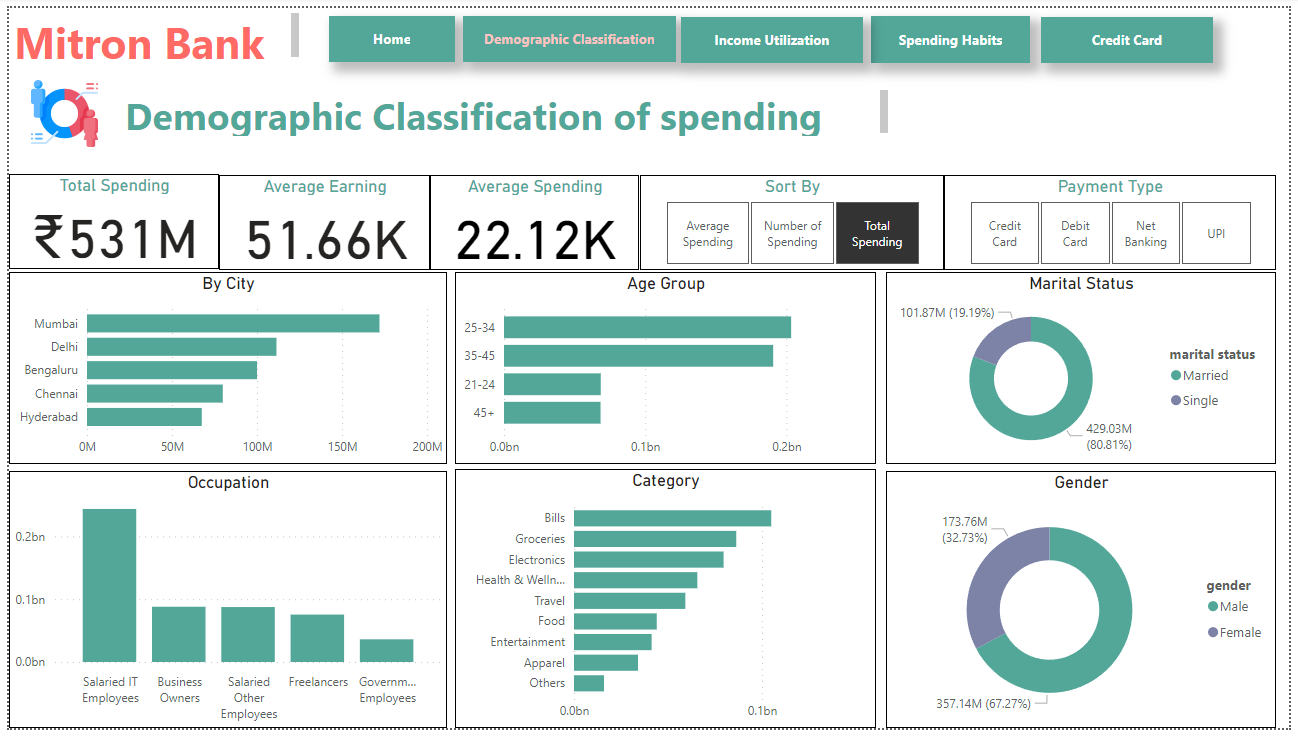

The dashboard page shown, as its layout file describes it:
{"tool":"powerbi","page":{"name":"Demographic Classification","canvas":[1280,720],"ordinal":1},"visuals":[{"type":"actionButton","title":"Home","box":[320,8,126,46],"z":0,"group":"g1"},{"type":"clusteredBarChart","title":"Age Group","fields":{"Category":["dim_customers.age_group"],"Y":["fact_spends.ShowBySelection"]},"box":[445.7,263.8,421.7,191.9],"z":0},{"type":"actionButton","title":"Home","box":[454,8,213,46],"z":1000,"group":"g1"},{"type":"textbox","box":[110.5,77.2,773.5,55.5],"z":1000},{"type":"actionButton","title":"Home","box":[862,8,159,47],"z":2000,"group":"g1"},{"type":"donutChart","title":"Gender","fields":{"Y":["fact_spends.ShowBySelection"],"Category":["dim_customers.gender"]},"box":[877.3,462.6,389.7,257.8],"z":2000},{"type":"actionButton","title":"Home","box":[672,9,182,46],"z":3000,"group":"g1"},{"type":"image","box":[0,66.8,110.5,77.2],"z":3000},{"type":"actionButton","title":"Home","box":[1032,9,172,46],"z":4000,"group":"g1"},{"type":"clusteredBarChart","title":"By City","fields":{"Category":["dim_customers.city"],"Y":["fact_spends.ShowBySelection"]},"box":[0,263.8,437.7,191.9],"z":4000},{"type":"donutChart","title":"Marital Status","fields":{"Category":["dim_customers.marital status"],"Y":["fact_spends.ShowBySelection"]},"box":[877.3,263.8,389.7,191.9],"z":5000},{"type":"textbox","box":[0,0,295,66.8],"z":6000},{"type":"columnChart","title":"Occupation","fields":{"Category":["dim_customers.occupation"],"Y":["fact_spends.ShowBySelection"]},"box":[0,462.6,437.7,257.8],"z":7000},{"type":"card","title":"Total Spending","fields":{"Values":["Sum(fact_spends.spend)"]},"box":[0,165.9,209.8,94.9],"z":8000},{"type":"card","title":"Average Earning","fields":{"Values":["Avg(dim_customers.avg_income)"]},"box":[210.3,167.5,210.3,94.1],"z":9000},{"type":"card","title":"Average Spending","fields":{"Values":["fact_spends.Average Spending"]},"box":[420.5,167.5,209,94.1],"z":10000},{"type":"clusteredBarChart","title":"Category","fields":{"Category":["fact_spends.category"],"Y":["fact_spends.ShowBySelection"]},"box":[445.7,460.6,421.7,259.8],"z":11000},{"type":"slicer","title":"Sort By","fields":{"Values":["ShowByOption.Column1"]},"box":[630.8,167.5,304.4,94.1],"z":12000},{"type":"slicer","title":"Payment Type","fields":{"Values":["fact_spends.payment_type"]},"box":[935,167,332,95],"z":13000},{"type":"group","id":"g1","title":"Group 1","box":[320,8,884,47],"z":14000}]}

Visuals, with their boxes in screenshot pixels (x1, y1, x2, y2), scaled from the page's 1280x720 canvas onto the 1298x738 screenshot:
"Home" actionButton: [324, 8, 452, 55]
"Age Group" clusteredBarChart: [452, 270, 880, 467]
"Home" actionButton: [460, 8, 676, 55]
textbox: [112, 79, 896, 136]
"Home" actionButton: [874, 8, 1035, 56]
"Gender" donutChart: [890, 474, 1285, 737]
"Home" actionButton: [681, 9, 866, 56]
image: [0, 68, 112, 148]
"Home" actionButton: [1047, 9, 1221, 56]
"By City" clusteredBarChart: [0, 270, 444, 467]
"Marital Status" donutChart: [890, 270, 1285, 467]
textbox: [0, 0, 299, 68]
"Occupation" columnChart: [0, 474, 444, 737]
"Total Spending" card: [0, 170, 213, 267]
"Average Earning" card: [213, 172, 427, 268]
"Average Spending" card: [426, 172, 638, 268]
"Category" clusteredBarChart: [452, 472, 880, 737]
"Sort By" slicer: [640, 172, 948, 268]
"Payment Type" slicer: [948, 171, 1285, 269]
"Group 1" group: [324, 8, 1221, 56]
